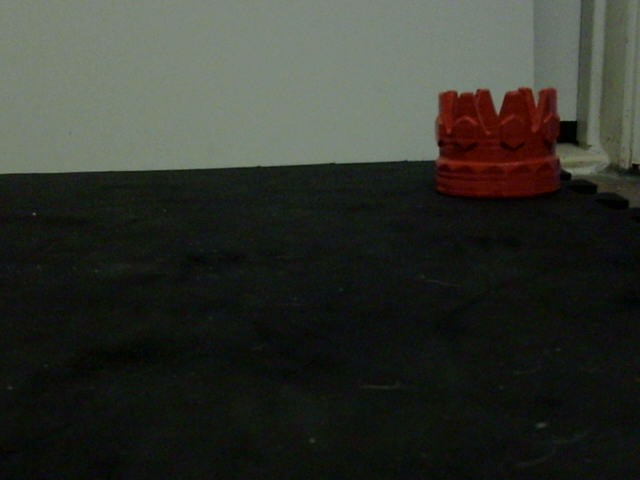crown: (431, 87, 564, 197)
